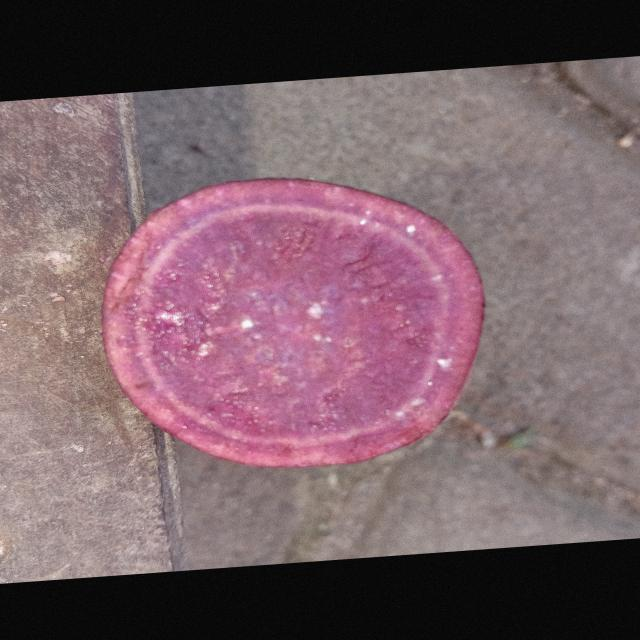Healthy Sweet Potato: (103, 179, 485, 468)
